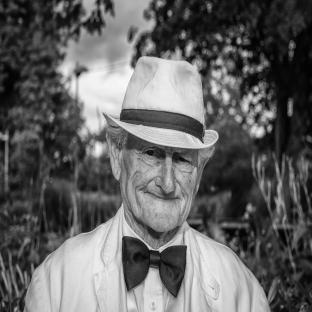Human: (25, 56, 269, 312)
